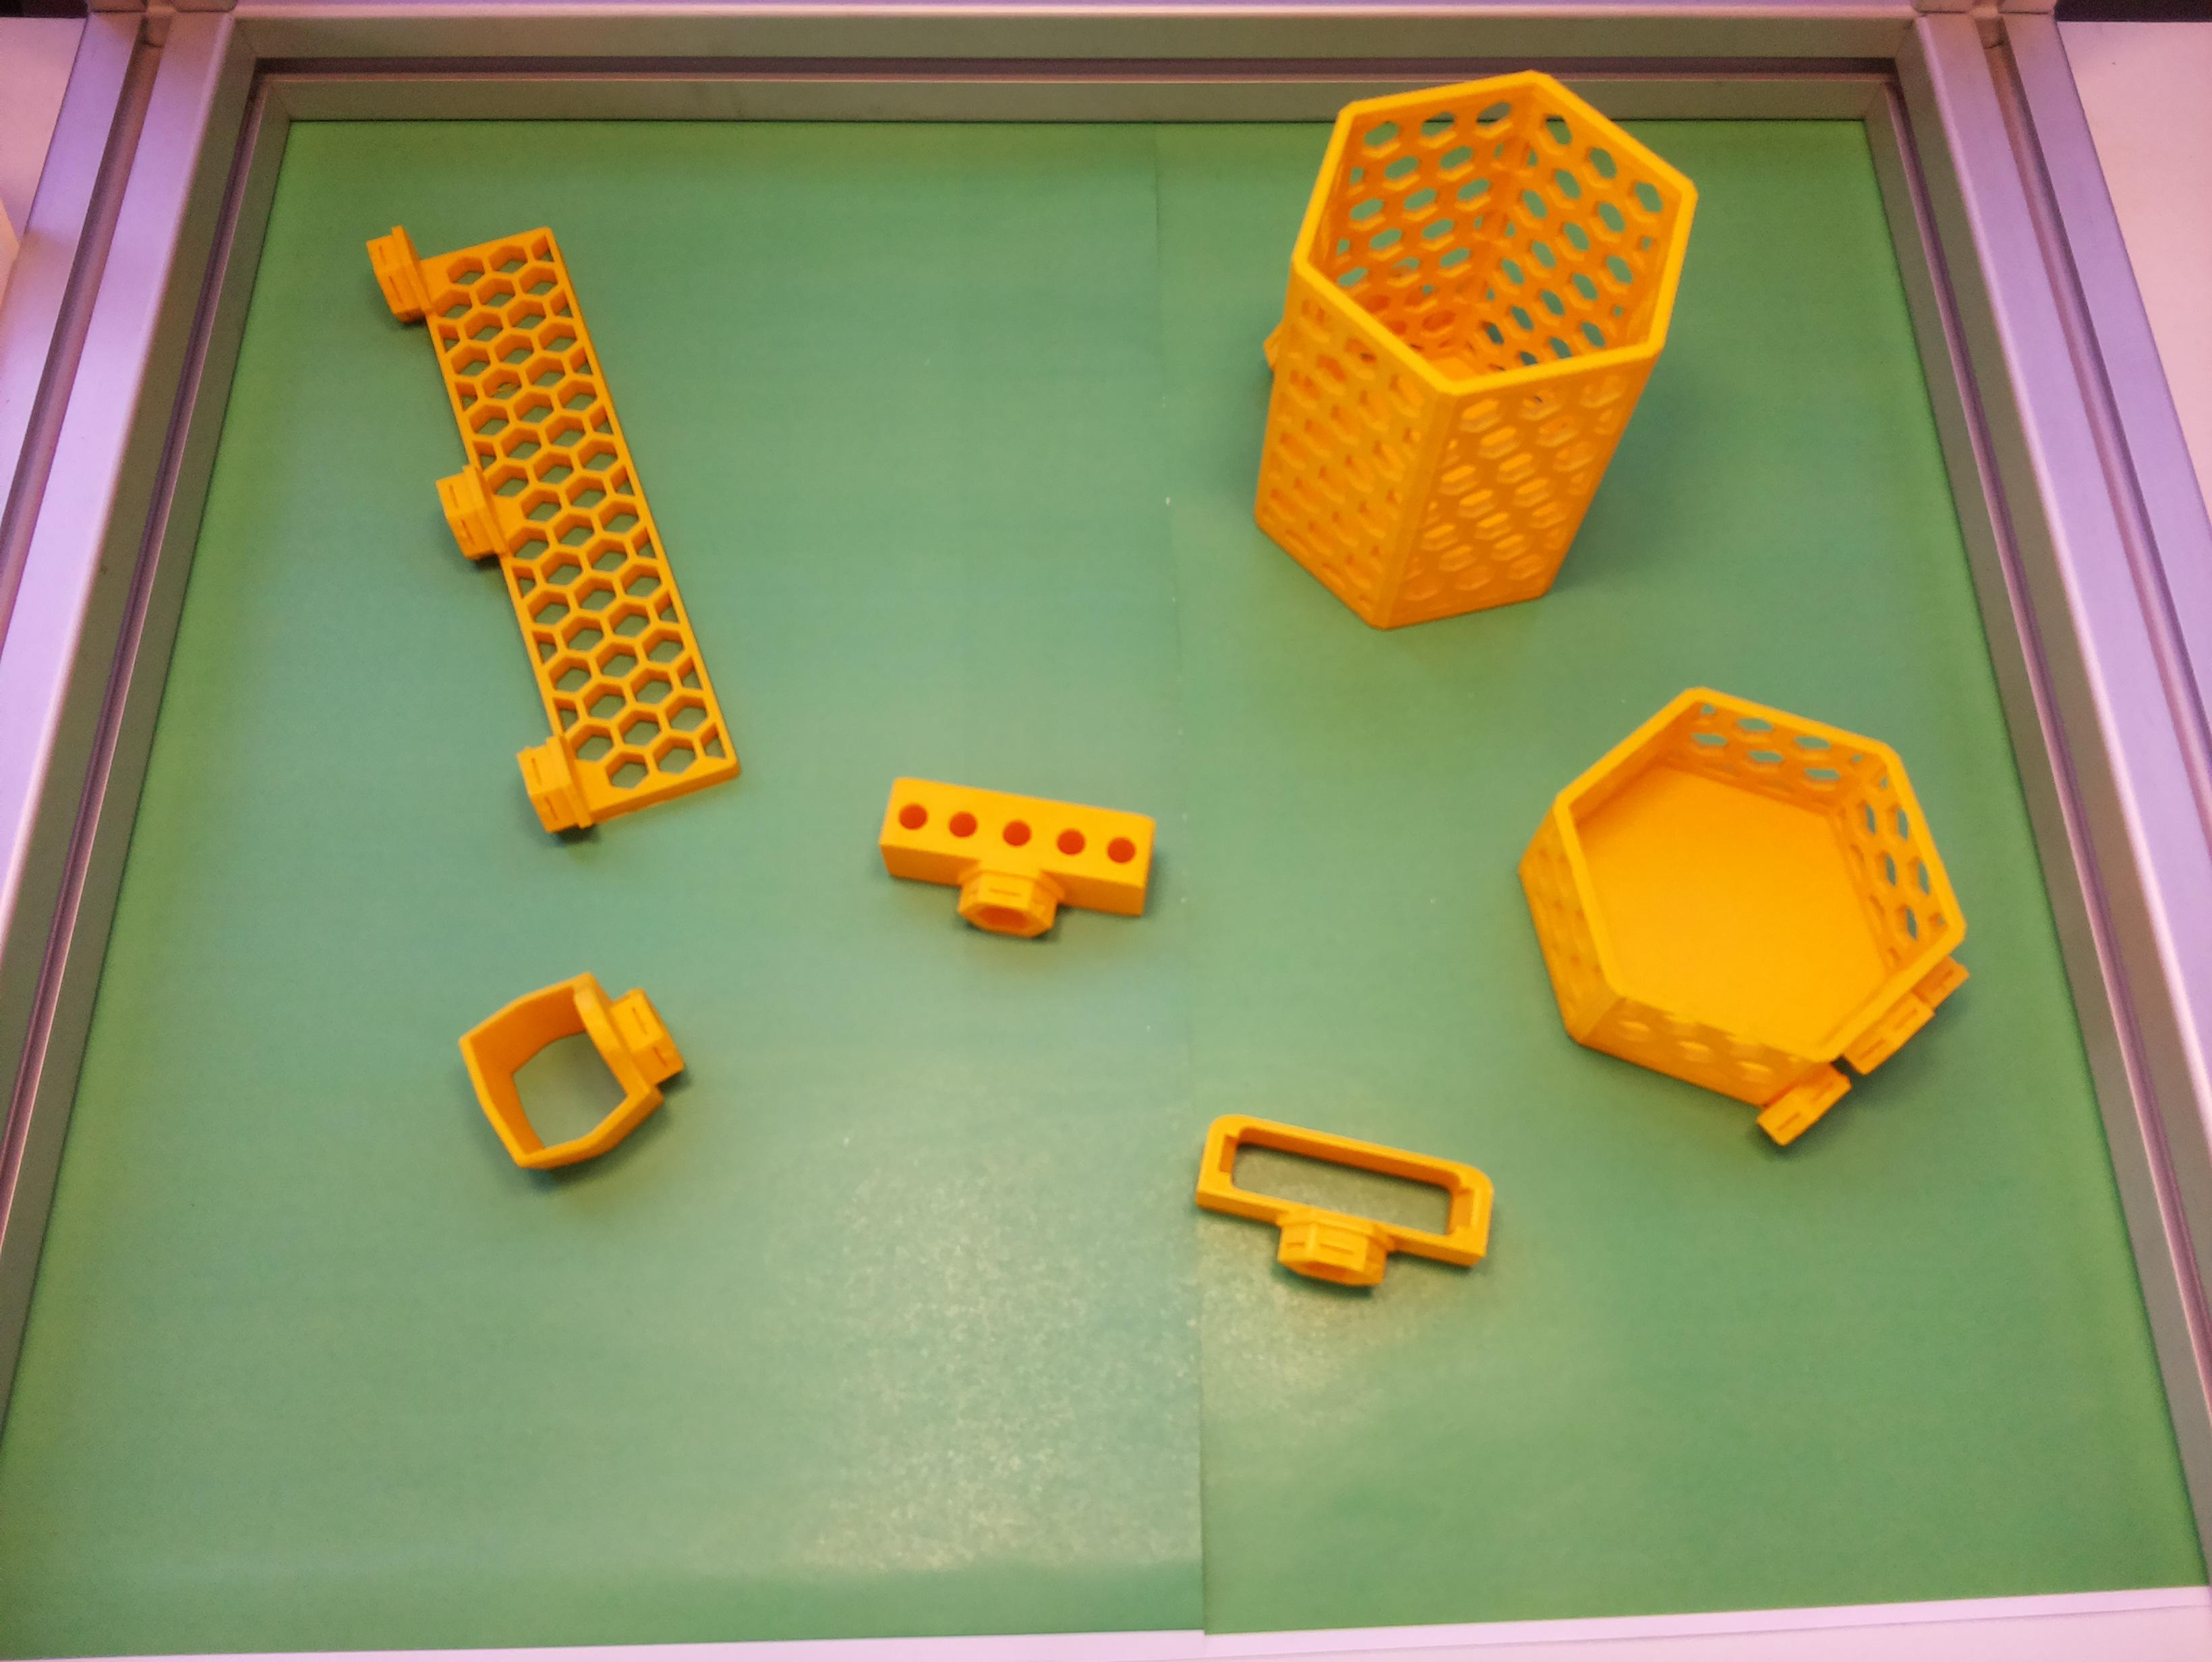bit_holder: (868, 773, 1159, 957)
bottle_holder: (1446, 609, 2043, 1206)
cup_holder: (1208, 26, 1718, 676)
cutter_holder: (1182, 1109, 1503, 1313)
scissor_holder: (443, 943, 704, 1194)
tool_holder: (342, 178, 742, 841)
